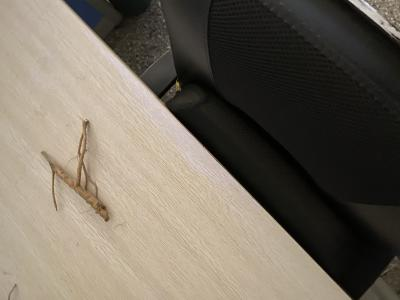Root: (41, 119, 109, 221)
